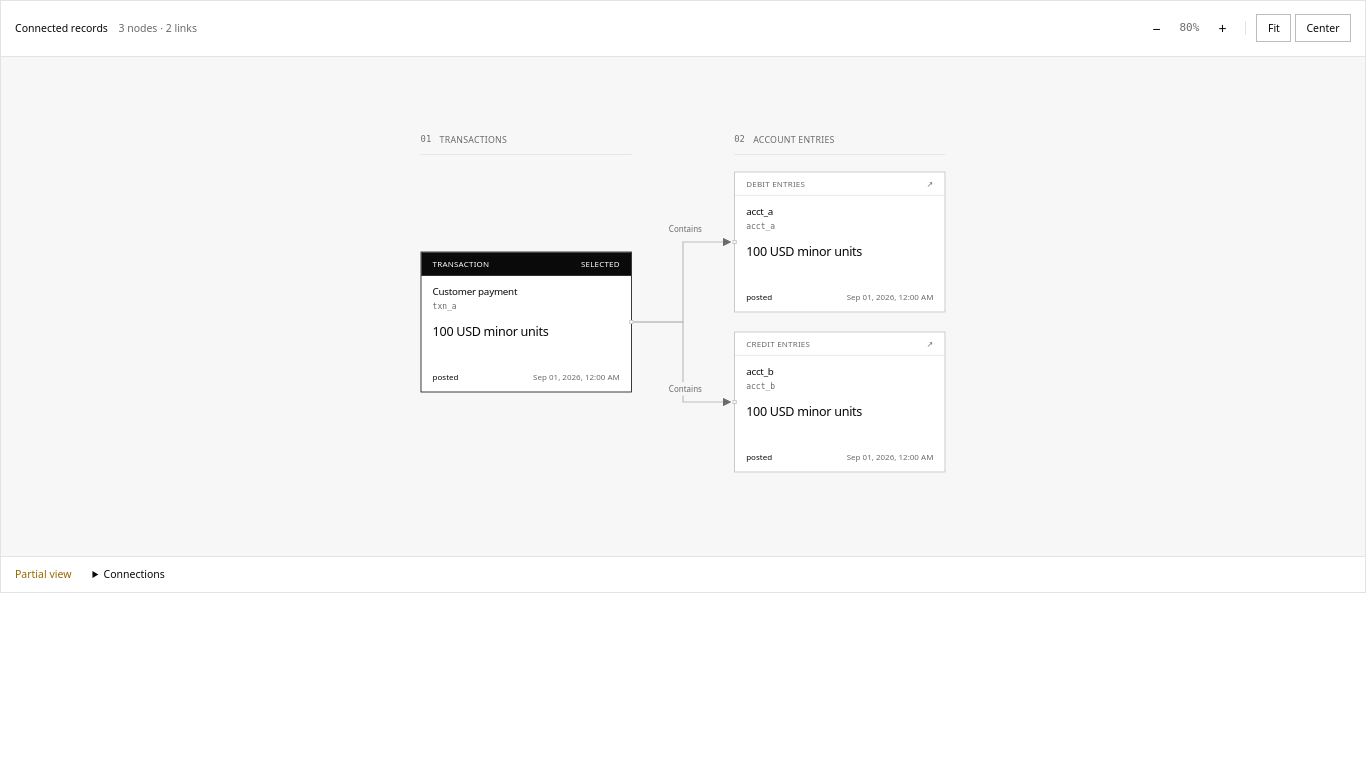
lifecycle flowchart › provides keyboard-accessible records, zoom controls and a text alternative
Click the button named "Zoom in".
click(1222, 28)  # box [1210,12,1234,45]
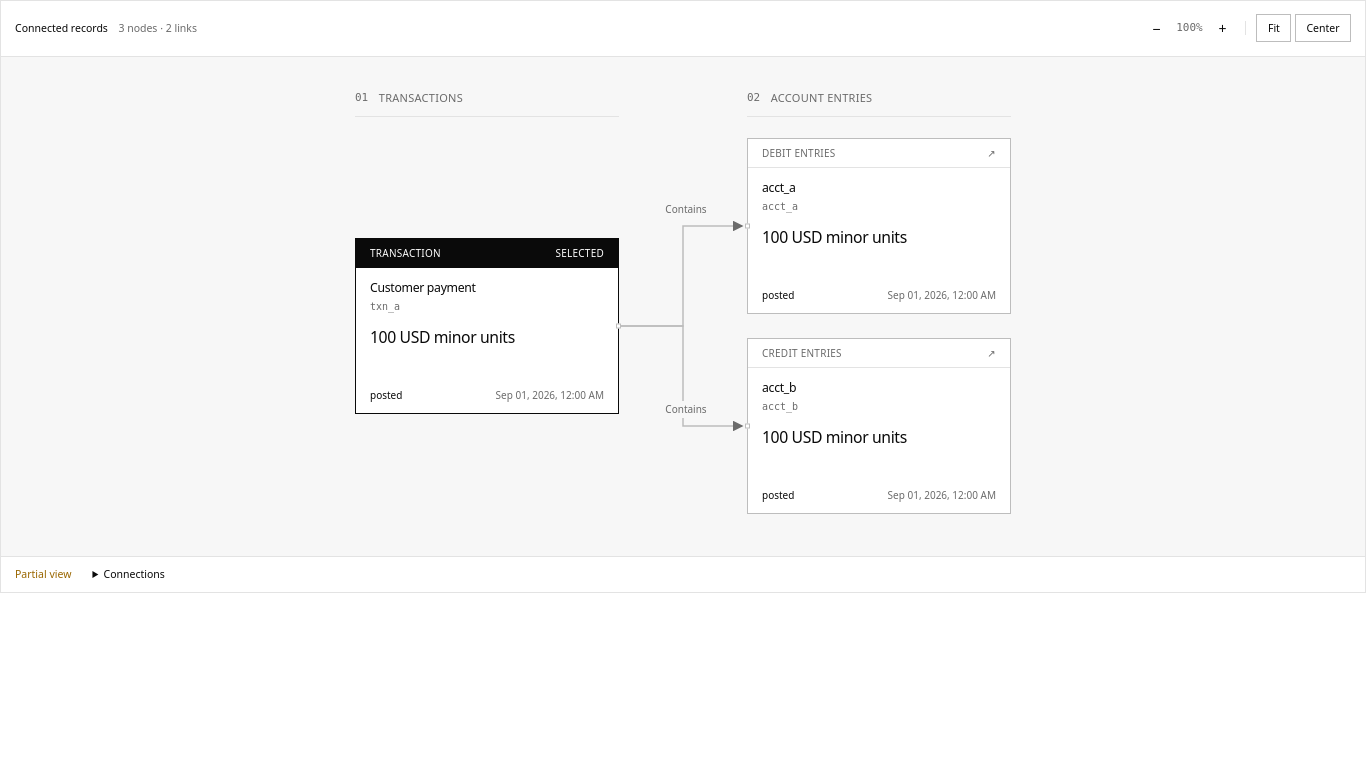
expect the text "100%" is shown: met, box [1176,21,1203,34]
Click the button named "Zoom out".
click(1156, 28)  # box [1144,12,1168,45]
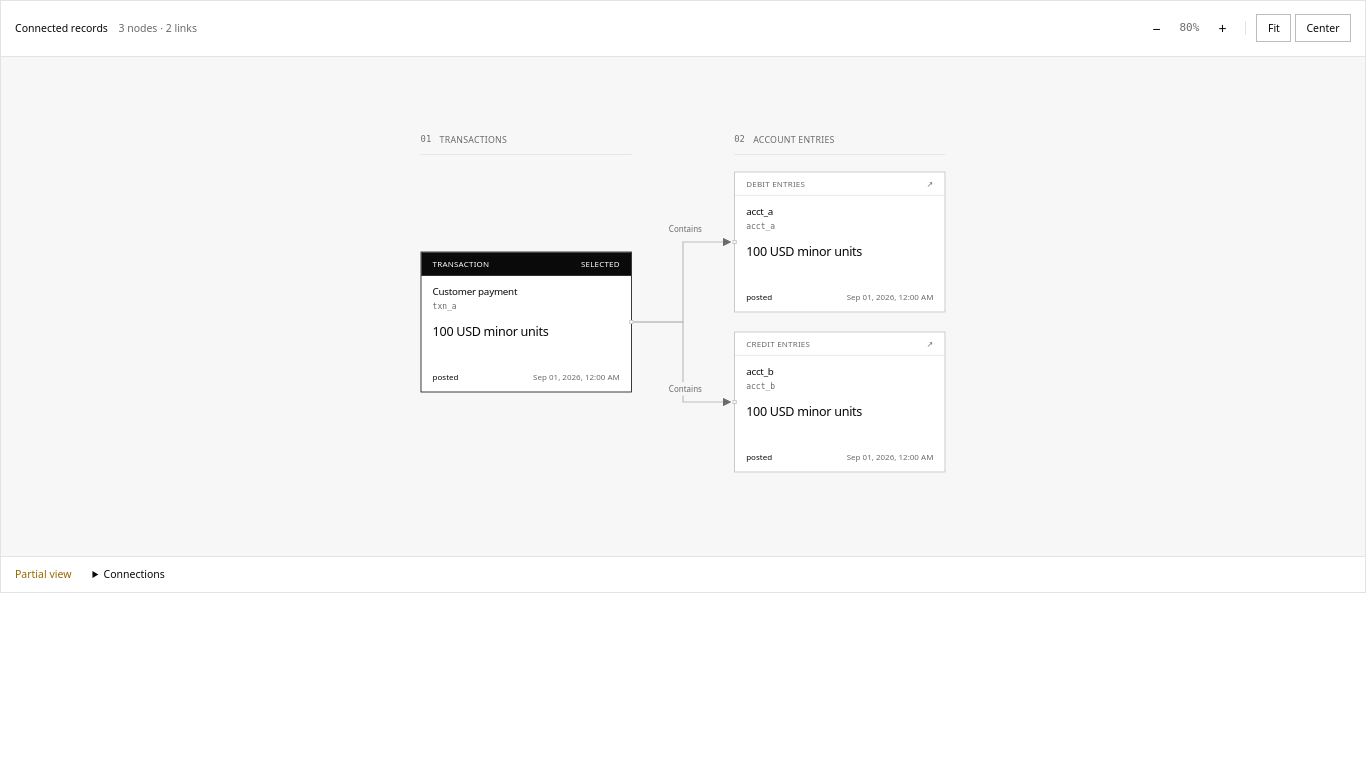
expect the text "80%" is shown: met, box [1180,21,1199,34]
Click the heading "Connections".
click(134, 574)  # box [104,567,165,581]
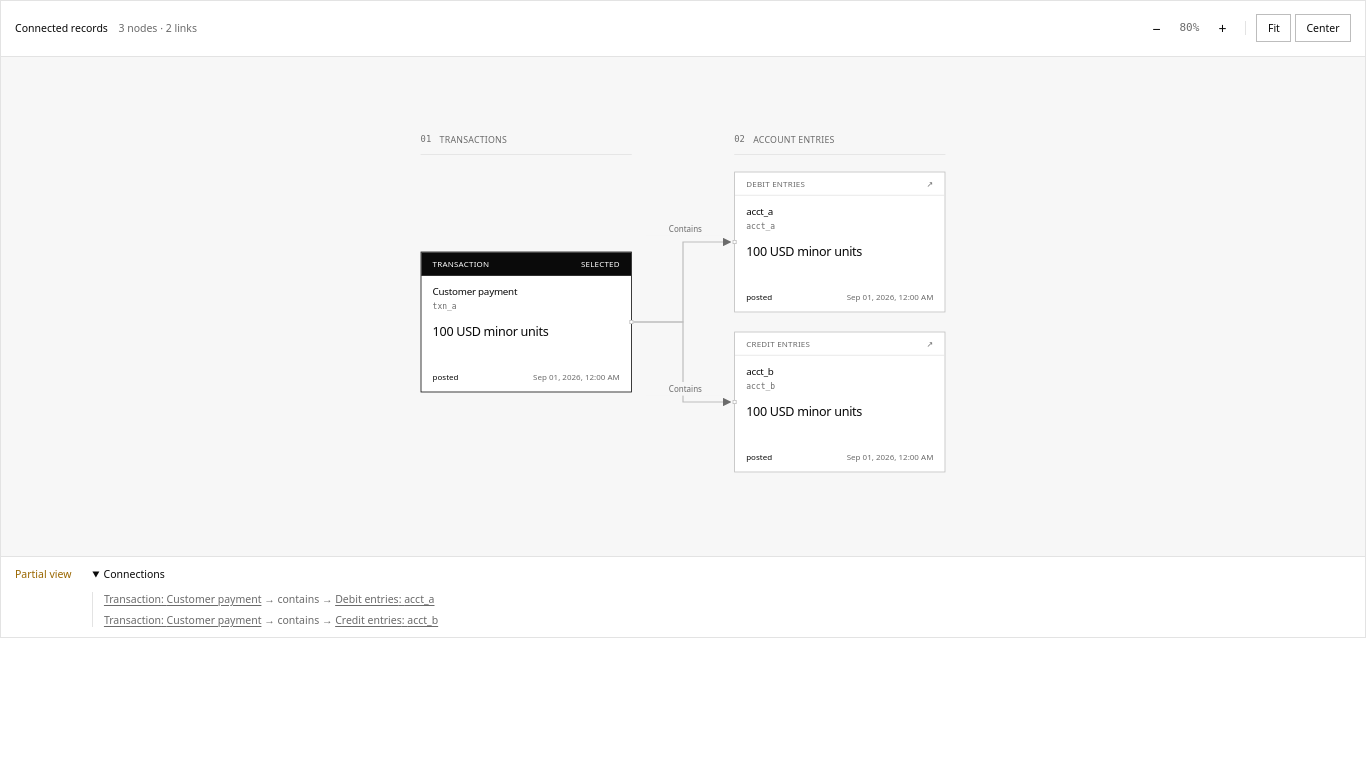
expect the number of list items "contains" is 2: met, box [104,592,434,606]; [104,613,438,627]
